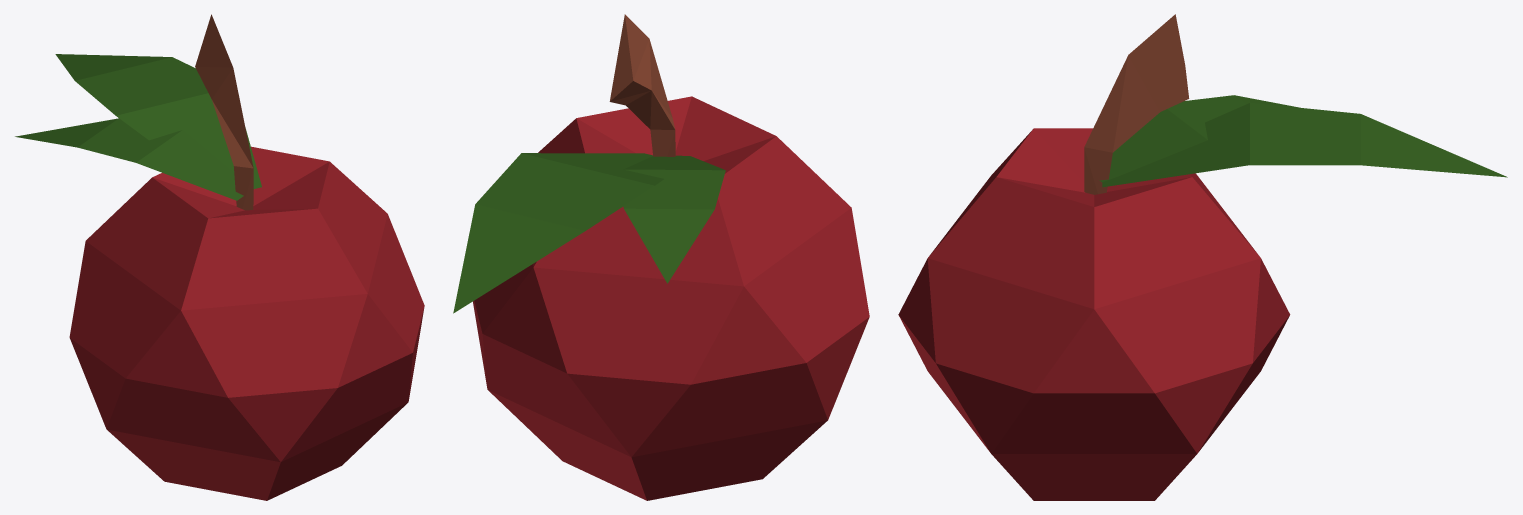
The model's file is pomme.fbx.
The picture shows the model from 3 angles, left to right: view 1: azimuth 30°, elevation 25°; view 2: azimuth 150°, elevation 25°; view 3: azimuth 270°, elevation 25°; orthographic projection. The views are drawn at different scales.
Visible parts, largest first — view 1: pomme; view 2: pomme; view 3: pomme.
Part boxes in pixels (box(x1,y1,x2,y2)): pomme: box(15, 14, 424, 500); pomme: box(453, 14, 869, 500); pomme: box(898, 14, 1507, 500).
Bounding box in the file's own units: 20.16 × 33 × 27.02.
